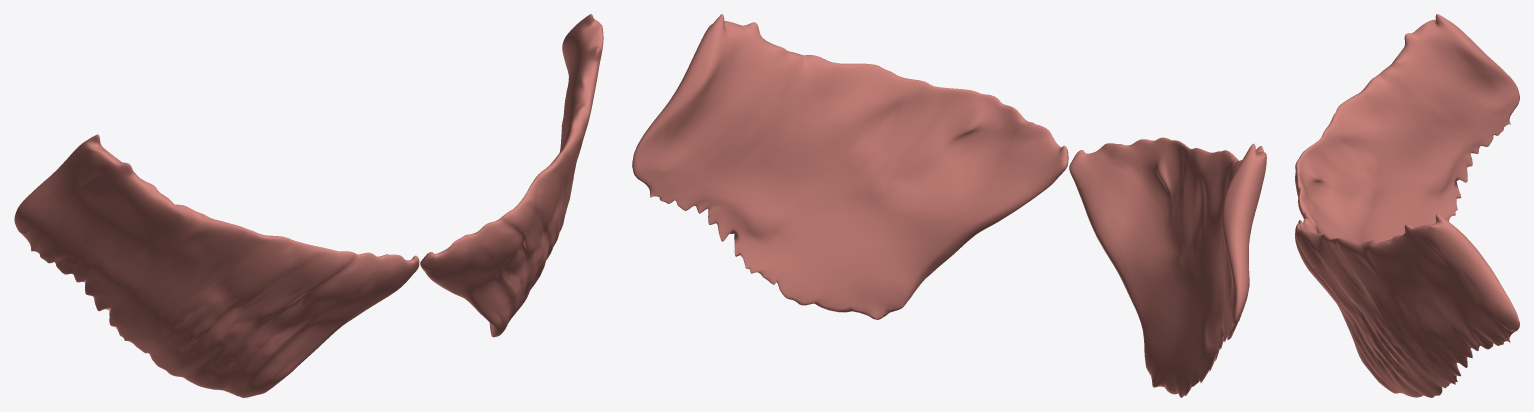
File: depressor_labii_inferioris.glb
3 renders of one model, left to right at view 1: azimuth 30°, elevation 25°; view 2: azimuth 150°, elevation 25°; view 3: azimuth 270°, elevation 25°, orthographic. The views are drawn at different scales.
Parts seen in each view (by area): view 1: depressor_labii_inferioris_R, depressor_labii_inferioris_L; view 2: depressor_labii_inferioris_L, depressor_labii_inferioris_R; view 3: depressor_labii_inferioris_R, depressor_labii_inferioris_L.
Boxes of the visible parts, x1,y1,x2,y2 form: depressor_labii_inferioris_R: [14, 134, 419, 397]; depressor_labii_inferioris_L: [420, 14, 603, 337]; depressor_labii_inferioris_L: [632, 14, 1068, 319]; depressor_labii_inferioris_R: [1069, 137, 1266, 397]; depressor_labii_inferioris_R: [1295, 14, 1519, 242]; depressor_labii_inferioris_L: [1295, 214, 1519, 397].
Bounding box in the file's own units: 0.0645 × 0.0299 × 0.0268.
